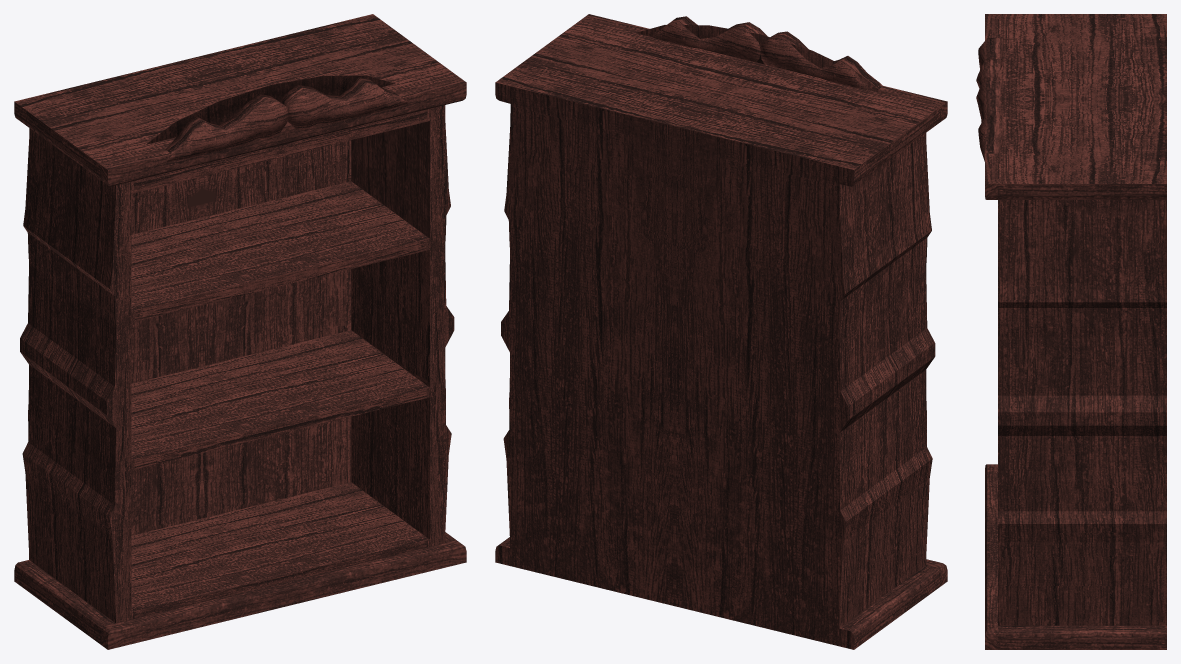
Rendered from Bookshelf - Short.fbx.
The picture shows the model from 3 angles, left to right: view 1: azimuth 30°, elevation 25°; view 2: azimuth 150°, elevation 25°; view 3: azimuth 270°, elevation 25°; orthographic projection. The views are drawn at different scales.
Visible parts, largest first — view 1: Bookshelf - Short; view 2: Bookshelf - Short; view 3: Bookshelf - Short.
Part boxes in pixels (x1,y1,x2,y2): Bookshelf - Short: (14,14,466,649); Bookshelf - Short: (495,14,947,649); Bookshelf - Short: (976,14,1166,649).
Bounding box in the file's own units: 1.4 × 1.91 × 0.665.
